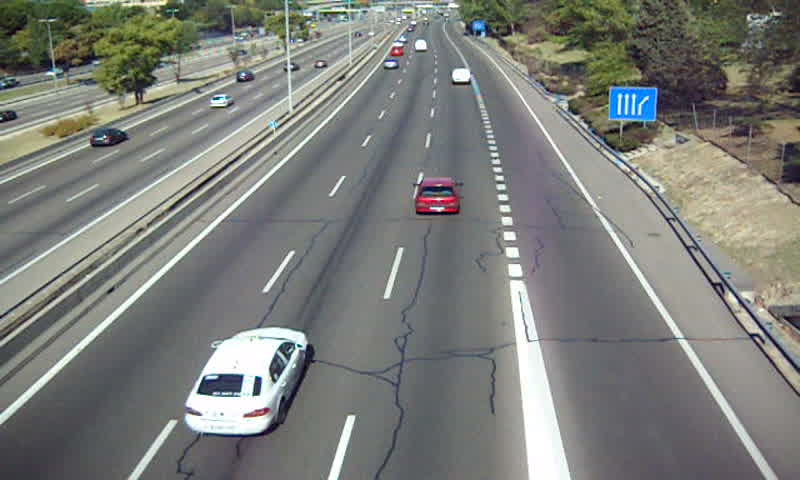car: (186, 327, 306, 434), (413, 178, 460, 216), (382, 57, 399, 70)
van: (451, 68, 471, 84)
